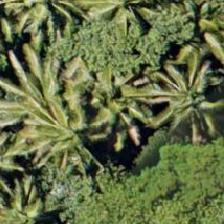coconut_tree: (126, 46, 216, 136), (15, 90, 105, 180), (0, 49, 72, 139), (19, 0, 109, 54), (155, 0, 223, 68)
